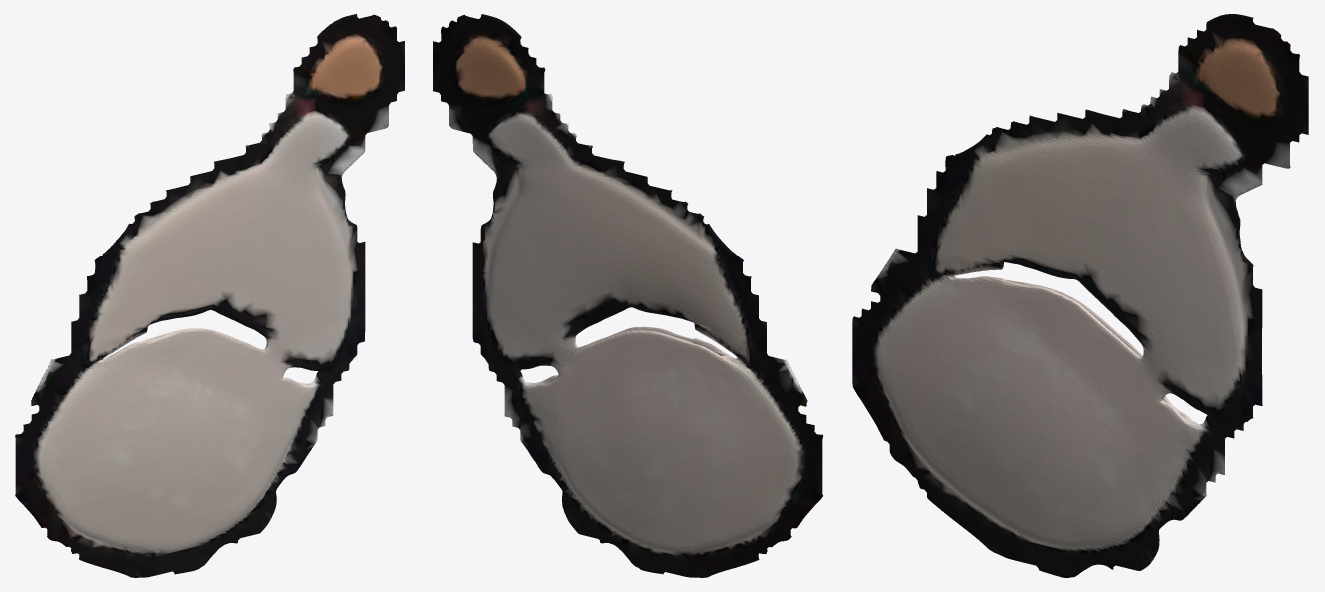
The picture shows the model from 3 angles, left to right: view 1: azimuth 30°, elevation 25°; view 2: azimuth 150°, elevation 25°; view 3: azimuth 330°, elevation 25°; orthographic projection. The views are drawn at different scales.
Parts seen in each view (by area): view 1: geometry_0; view 2: geometry_0; view 3: geometry_0.
Boxes of the visible parts, bbox=[...] form: geometry_0: bbox=[15, 14, 404, 577]; geometry_0: bbox=[433, 14, 823, 577]; geometry_0: bbox=[852, 14, 1308, 577].
Size of the model in its own units: 0.4375 by 0.5555 by 0.0233.
